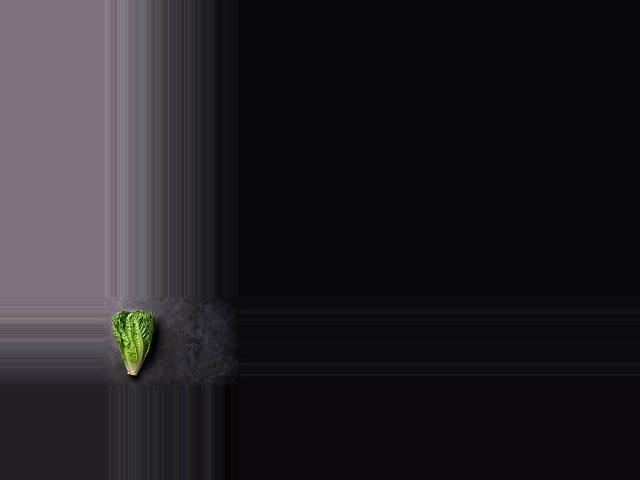lettuce: (110, 310, 156, 380)
